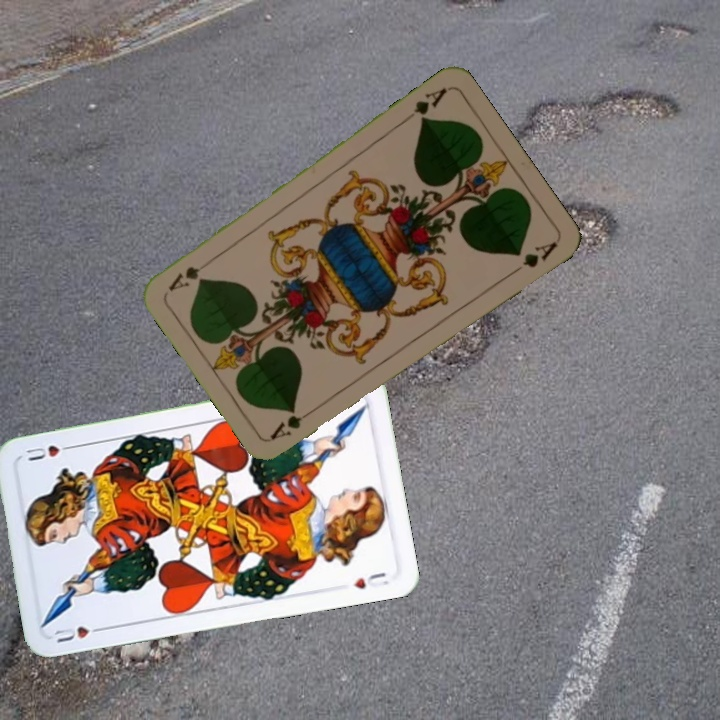GA: (399, 83, 450, 126), (267, 403, 319, 442)
HU: (50, 622, 108, 645)
